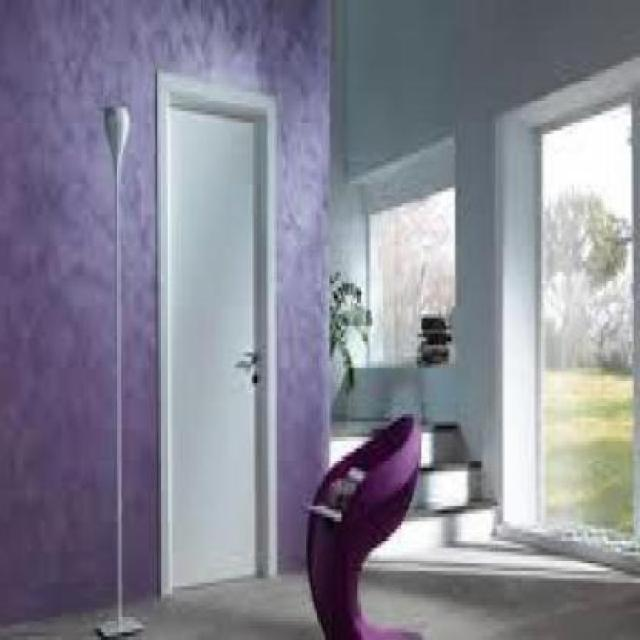door: (160, 70, 278, 592)
